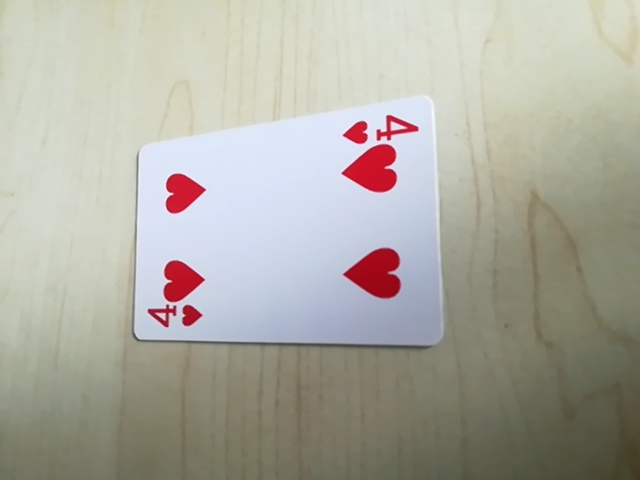hx 4: (339, 108, 420, 149), (141, 300, 205, 334)
